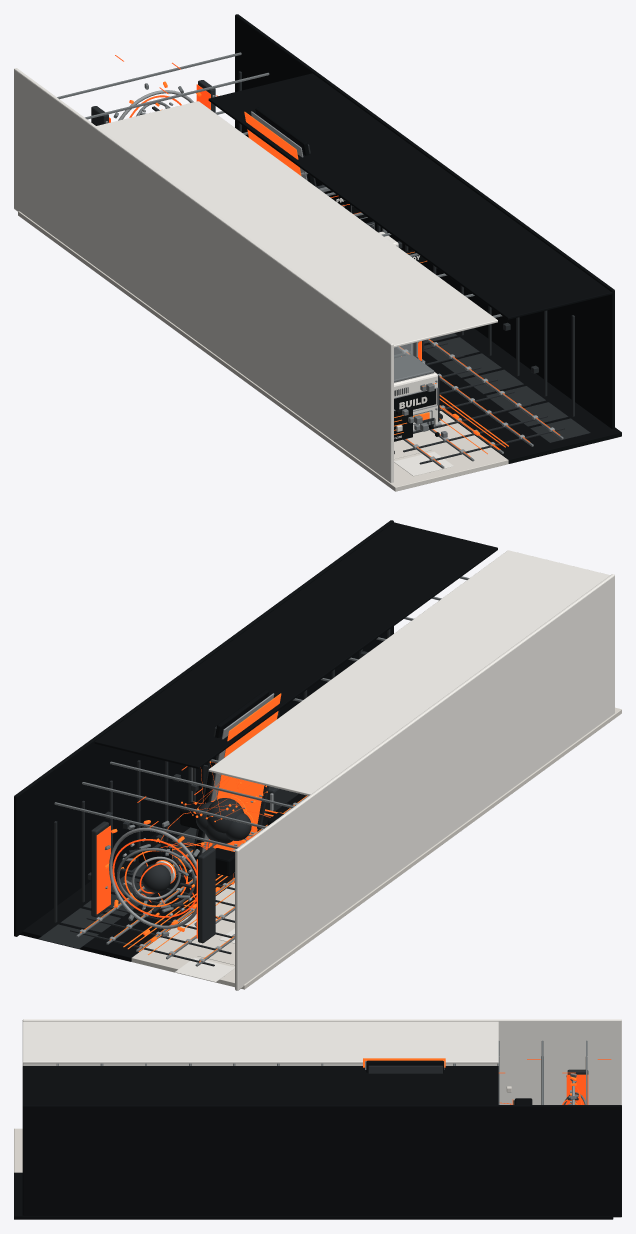
The model's file is egain-corridor-balanced.glb.
3 views of the same model, one above another, from view 1: azimuth 30°, elevation 25°; view 2: azimuth 150°, elevation 25°; view 3: azimuth 270°, elevation 25° (orthographic). The views are drawn at different scales.
Visible parts, largest first — view 1: EnvironmentBatch_05_WarmPorcelain, EnvironmentBatch_02_InkBlack, EnvironmentBatch_04_WarmArchitecturalWhite, EnvironmentBatch_01_Graphite, SignalBatch_02_Graphite, EnvironmentBatch_00_BrushedSteel, SignalBatch_00_BrushedSteel, BuildShellBatch_04_WarmPorcelain, ProtectBladeBatch_04_SignalOrange, SignalBatch_03_SignalOrange, BuildShellBatch_00_BrushedSteel; view 2: EnvironmentBatch_05_WarmPorcelain, EnvironmentBatch_02_InkBlack, EnvironmentBatch_04_WarmArchitecturalWhite, EnvironmentBatch_01_Graphite, ProtectBladeBatch_04_SignalOrange, FinalePylonsBatch_01_Graphite, EnvironmentBatch_00_BrushedSteel, OperateCanopyBatch_00_Graphite, OperateNodesBatch_03_InkBlack, FinalePylonsBatch_03_SignalOrangeDim, SignalBatch_02_Graphite, SignalBatch_03_SignalOrange (+5 smaller); view 3: EnvironmentBatch_02_InkBlack, EnvironmentBatch_05_WarmPorcelain, ProtectBladeBatch_02_Graphite, EnvironmentBatch_04_WarmArchitecturalWhite, EnvironmentBatch_00_BrushedSteel, ProtectBladeBatch_03_InkBlack, FinalePylonsBatch_03_SignalOrangeDim.
Part boxes in pixels (x1,y1,x2,y2): EnvironmentBatch_05_WarmPorcelain: [14, 68, 497, 482]; EnvironmentBatch_02_InkBlack: [208, 14, 621, 463]; EnvironmentBatch_04_WarmArchitecturalWhite: [18, 211, 508, 491]; EnvironmentBatch_01_Graphite: [238, 71, 590, 442]; SignalBatch_02_Graphite: [394, 342, 564, 464]; EnvironmentBatch_00_BrushedSteel: [57, 52, 502, 317]; SignalBatch_00_BrushedSteel: [396, 339, 563, 468]; BuildShellBatch_04_WarmPorcelain: [394, 372, 437, 429]; ProtectBladeBatch_04_SignalOrange: [244, 111, 301, 175]; SignalBatch_03_SignalOrange: [399, 339, 559, 464]; BuildShellBatch_00_BrushedSteel: [394, 354, 434, 382]; EnvironmentBatch_05_WarmPorcelain: [175, 550, 614, 990]; EnvironmentBatch_02_InkBlack: [14, 520, 497, 961]; EnvironmentBatch_04_WarmArchitecturalWhite: [131, 707, 621, 989]; EnvironmentBatch_01_Graphite: [38, 629, 390, 948]; ProtectBladeBatch_04_SignalOrange: [208, 693, 281, 850]; FinalePylonsBatch_01_Graphite: [91, 821, 215, 943]; EnvironmentBatch_00_BrushedSteel: [54, 576, 469, 848]; OperateCanopyBatch_00_Graphite: [195, 798, 251, 843]; OperateNodesBatch_03_InkBlack: [138, 802, 283, 876]; FinalePylonsBatch_03_SignalOrangeDim: [96, 825, 197, 938]; SignalBatch_02_Graphite: [70, 803, 292, 966]; SignalBatch_03_SignalOrange: [80, 795, 307, 962]; EnvironmentBatch_02_InkBlack: [14, 1066, 621, 1219]; EnvironmentBatch_05_WarmPorcelain: [22, 1019, 621, 1104]; ProtectBladeBatch_02_Graphite: [368, 1065, 442, 1073]; EnvironmentBatch_04_WarmArchitecturalWhite: [14, 1056, 587, 1172]; EnvironmentBatch_00_BrushedSteel: [57, 1040, 587, 1104]; ProtectBladeBatch_03_InkBlack: [366, 1060, 443, 1072]; FinalePylonsBatch_03_SignalOrangeDim: [566, 1074, 588, 1104].
Bounding box in the file's own units: 23.6 × 15.33 × 69.
